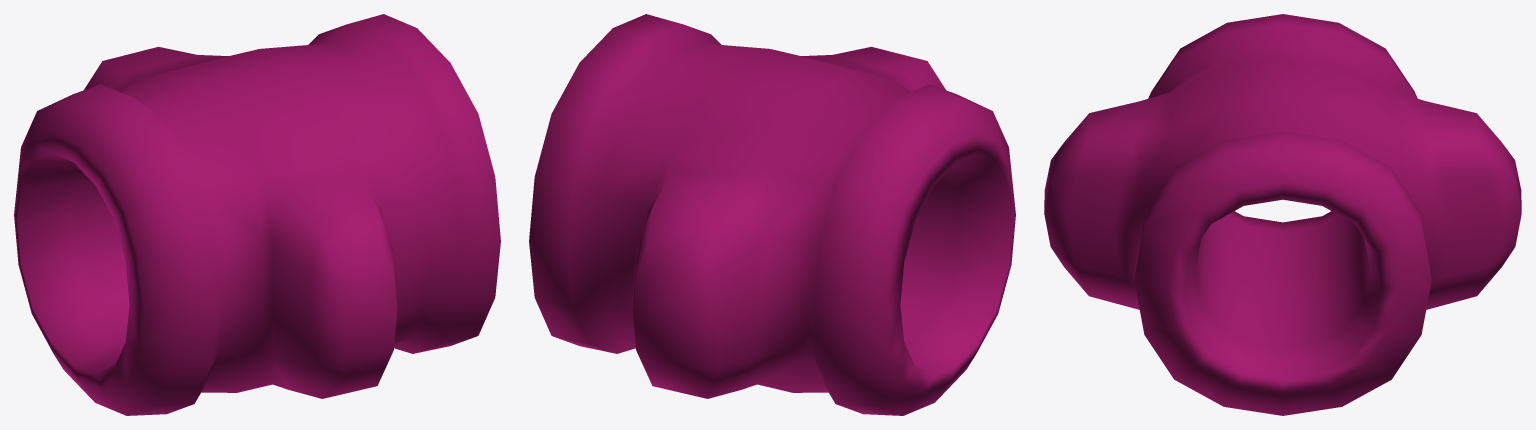
The model's file is Bones.fbx.
3 views of the same model, side by side, from view 1: azimuth 30°, elevation 25°; view 2: azimuth 150°, elevation 25°; view 3: azimuth 270°, elevation 25° (orthographic). The views are drawn at different scales.
Visible parts, largest first — view 1: Bones; view 2: Bones; view 3: Bones.
Part boxes in pixels (x1=…): Bones: x1=14, y1=14, x2=500, y2=415; Bones: x1=529, y1=14, x2=1015, y2=415; Bones: x1=1044, y1=14, x2=1521, y2=415.
Bounding box in the file's own units: 9.58 × 7.67 × 12.31.
